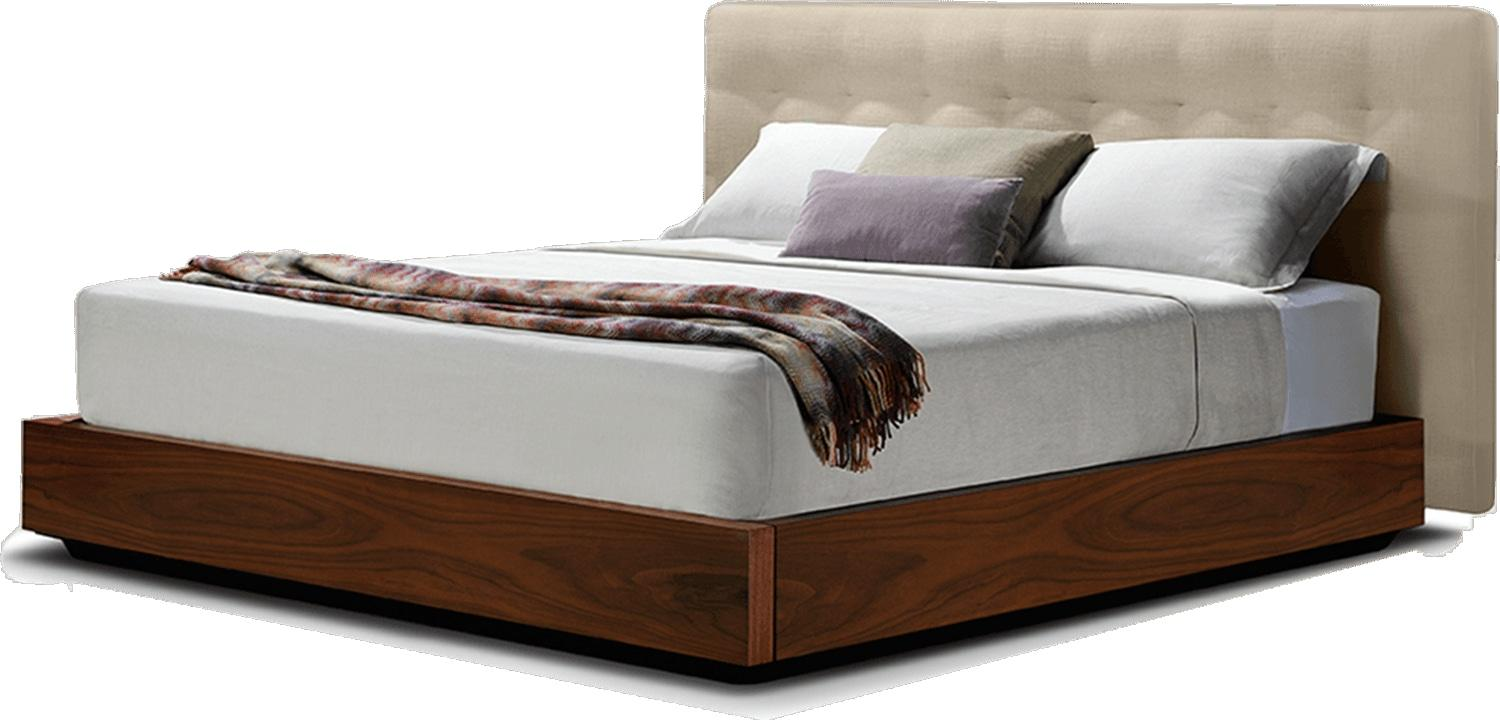bed: (72, 138, 1404, 626)
